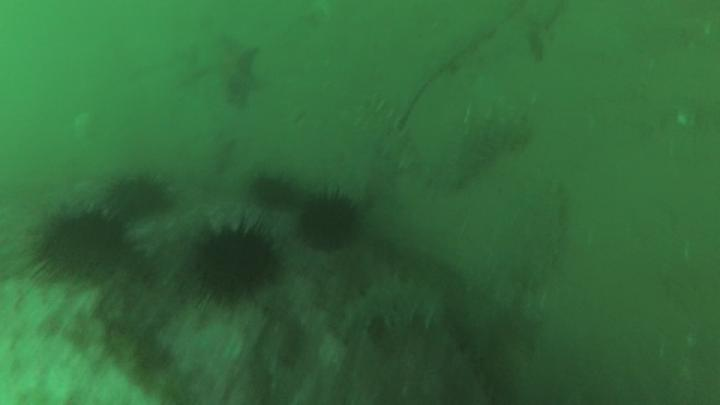echinus: (25, 200, 149, 289), (183, 209, 289, 310), (295, 186, 361, 259), (99, 172, 178, 222), (245, 167, 299, 211)
holothurian: (437, 113, 538, 187), (338, 277, 446, 342), (346, 92, 424, 180), (520, 175, 571, 283)
starfish: (204, 34, 267, 108)
